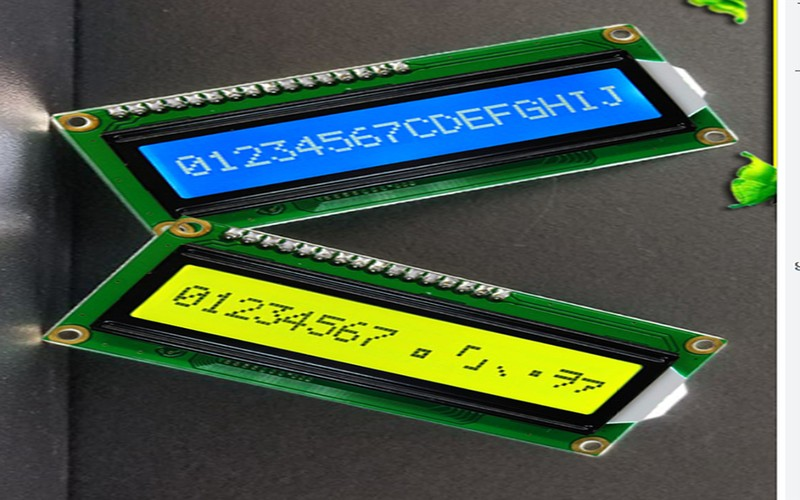LCD: (98, 35, 724, 233), (79, 247, 683, 436)
